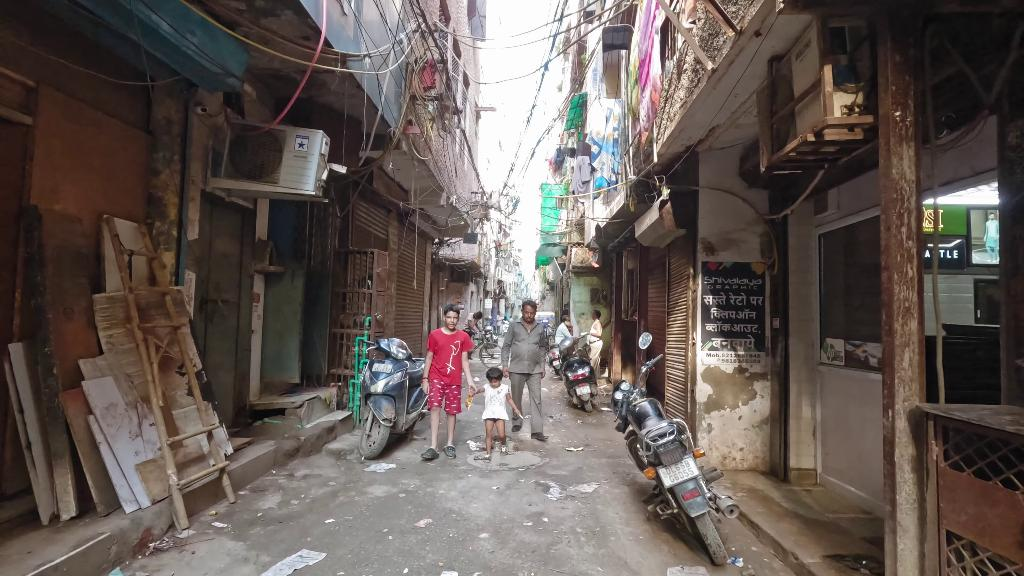garbage: (537, 471, 605, 503), (257, 547, 329, 576), (667, 559, 709, 576), (364, 459, 401, 477), (461, 435, 488, 450)
